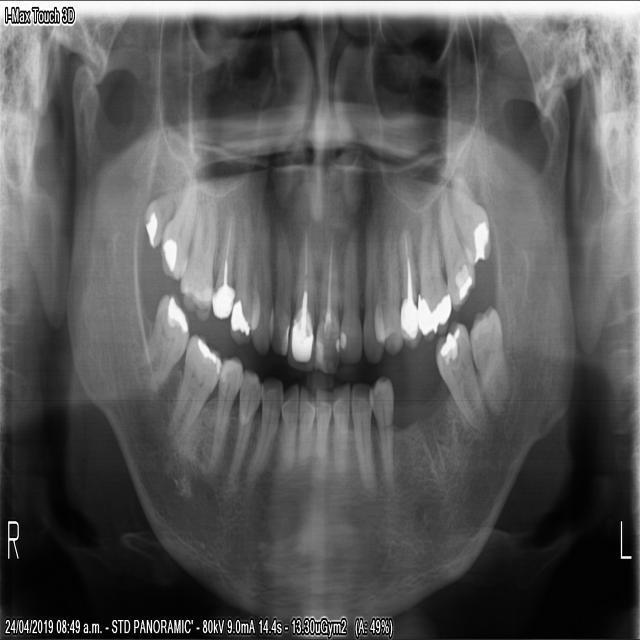LCD: (347, 373, 378, 504)
LCU: (361, 216, 384, 368)
LID: (328, 374, 351, 478), (311, 380, 332, 475)
LIU: (312, 232, 340, 379), (337, 230, 362, 367)
LMD: (428, 315, 486, 435), (465, 295, 513, 424)
LMU: (436, 183, 476, 314), (415, 209, 452, 342), (447, 167, 492, 269)
LPMD: (365, 370, 395, 493)
LPMU: (372, 221, 403, 357), (397, 216, 421, 350)
RCD: (241, 369, 283, 489)
RCU: (247, 200, 275, 360)
RID: (277, 377, 299, 476), (295, 379, 317, 474)
RIU: (284, 225, 319, 377), (266, 213, 293, 361)
RMD: (162, 325, 221, 450), (133, 286, 190, 401)
RMU: (176, 185, 219, 322), (156, 170, 199, 282), (139, 184, 180, 253)
RPMD: (200, 348, 245, 479), (223, 365, 265, 493)
RPMU: (225, 205, 260, 349), (207, 201, 236, 326)
